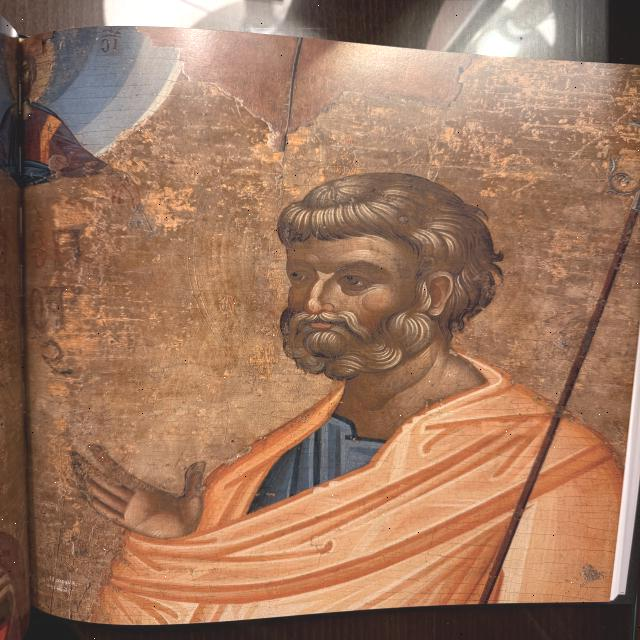saint: (59, 112, 597, 624)
scepter: (469, 178, 639, 601)
